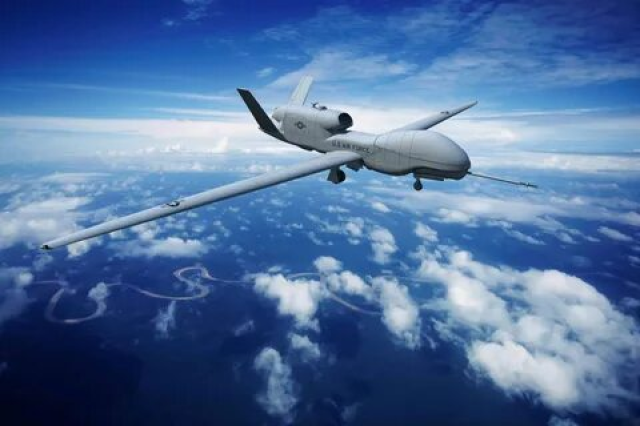military drone: (38, 74, 478, 250)
